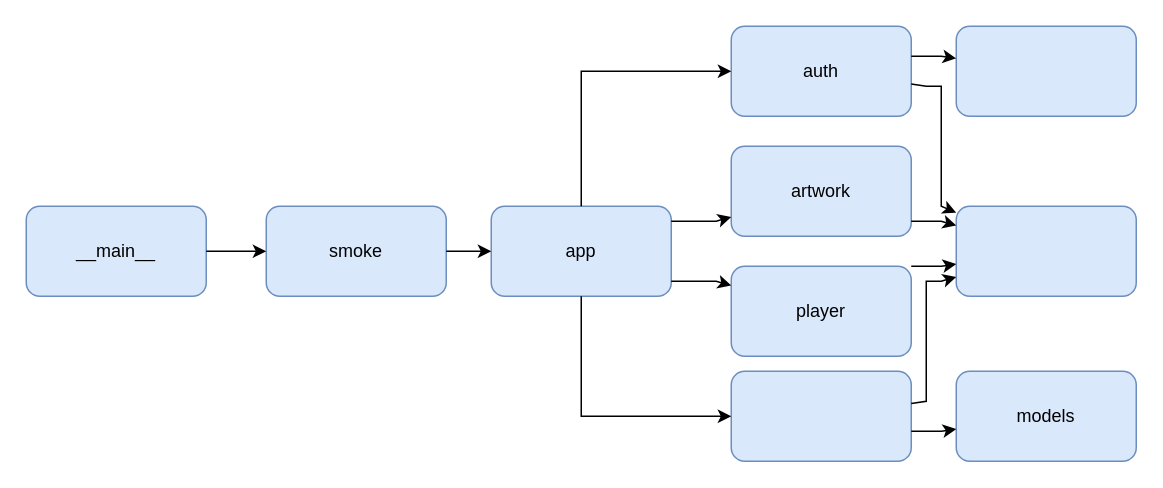
The diagram is 1163 pixels wide and 488 high, and some of its shapes have lost their labels. Here are the shapes that lost their labels. From the top down, the box of each, then its label:
(955, 25, 1136, 116): plextui
(955, 205, 1136, 296): config
(730, 370, 911, 461): plex_service
